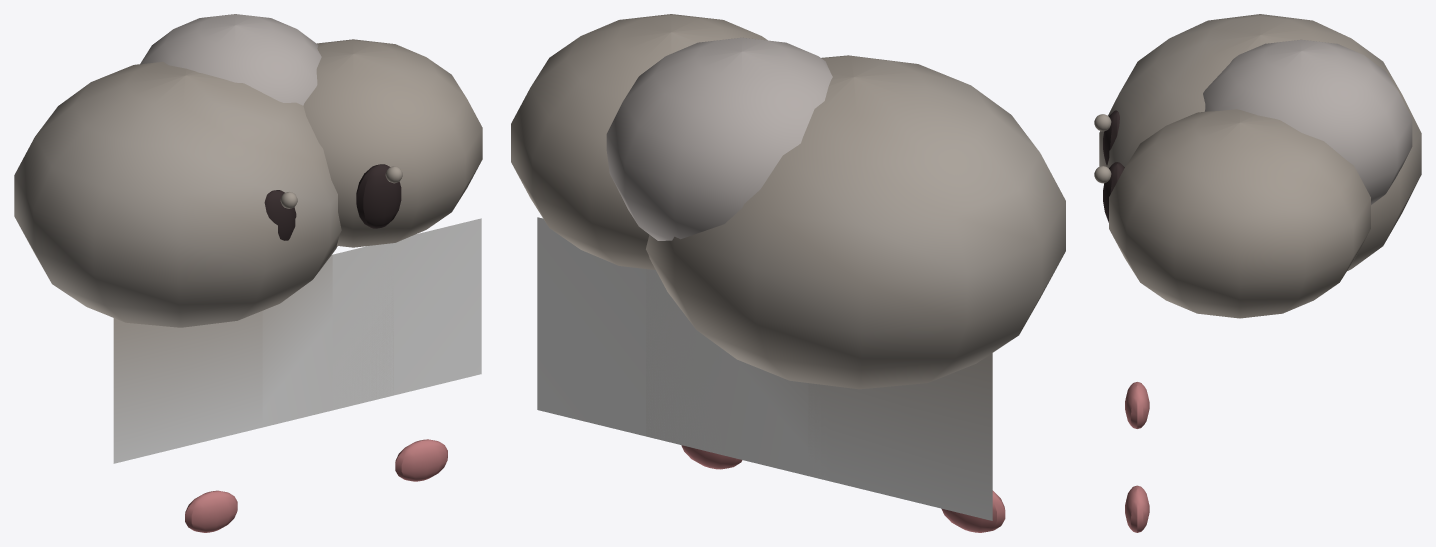
The picture shows the model from 3 angles, left to right: view 1: azimuth 30°, elevation 25°; view 2: azimuth 150°, elevation 25°; view 3: azimuth 270°, elevation 25°; orthographic projection. The views are drawn at different scales.
Visible parts, largest first — view 1: pet_pc38c4245; view 2: pet_pc38c4245; view 3: pet_pc38c4245.
Part boxes in pixels (x1=…): pet_pc38c4245: x1=14, y1=14, x2=482, y2=532; pet_pc38c4245: x1=511, y1=14, x2=1065, y2=532; pet_pc38c4245: x1=1094, y1=14, x2=1421, y2=532.
Bounding box in the file's own units: 0.4883 × 0.4594 × 0.3199.
